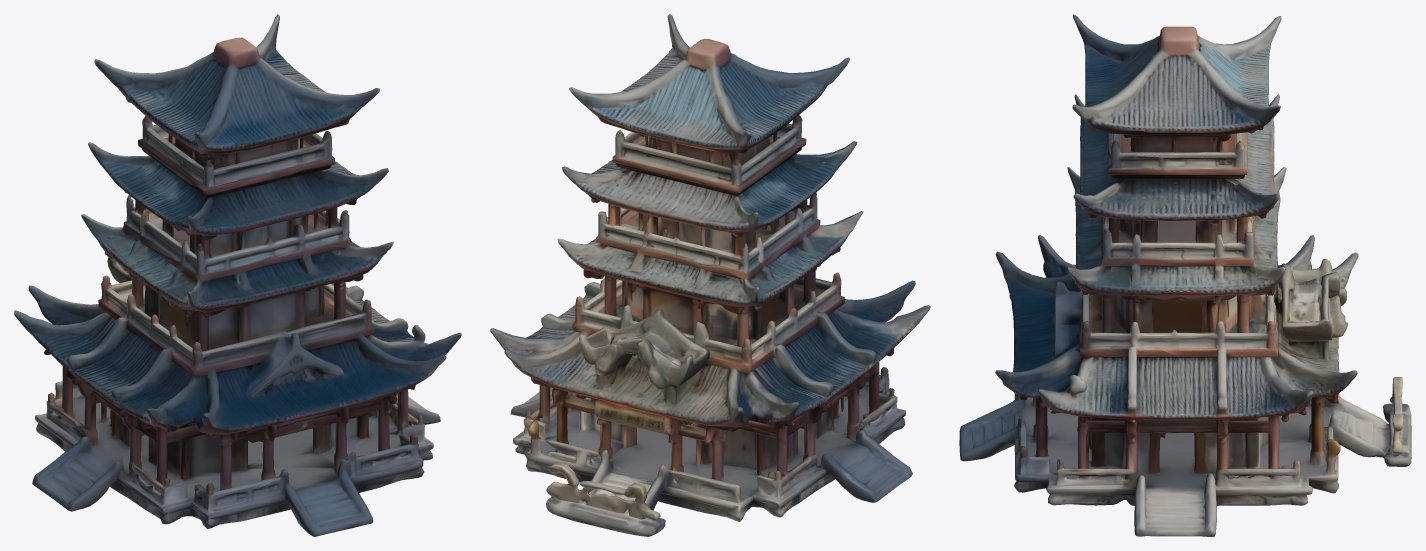
File: building-pagoda.glb
The picture shows the model from 3 angles, left to right: view 1: azimuth 30°, elevation 25°; view 2: azimuth 150°, elevation 25°; view 3: azimuth 270°, elevation 25°; orthographic projection. The views are drawn at different scales.
Visible parts, largest first — view 1: tripo_node_e7d7edfc-cde6-459c-b2c9-079b38a166d7; view 2: tripo_node_e7d7edfc-cde6-459c-b2c9-079b38a166d7; view 3: tripo_node_e7d7edfc-cde6-459c-b2c9-079b38a166d7.
Boxes of the visible parts, x1,y1,x2,y2 form: tripo_node_e7d7edfc-cde6-459c-b2c9-079b38a166d7: (14,14,461,536); tripo_node_e7d7edfc-cde6-459c-b2c9-079b38a166d7: (490,14,930,536); tripo_node_e7d7edfc-cde6-459c-b2c9-079b38a166d7: (959,14,1411,536).
Bounding box in the file's own units: 17.16 × 18 × 17.78.
Materials: 1 (1 with a texture image).
